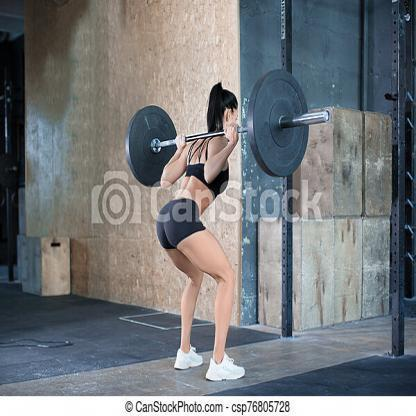barbell: (126, 73, 331, 189)
